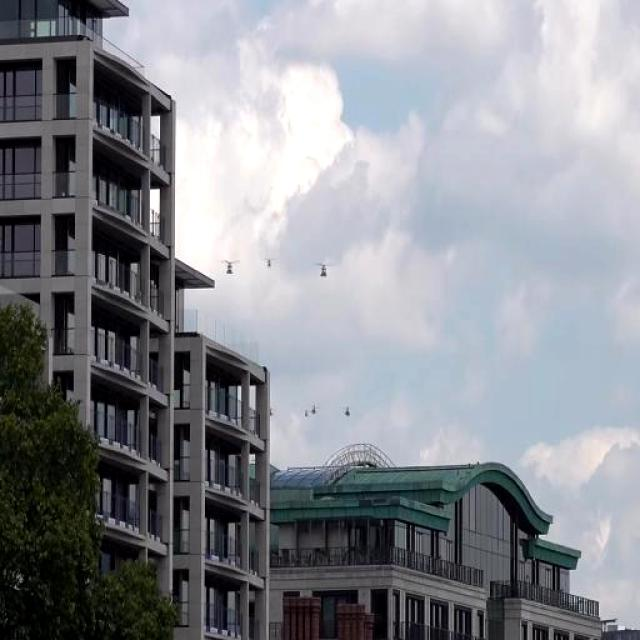drone: (218, 254, 241, 279), (316, 260, 331, 280), (264, 254, 274, 272), (340, 406, 351, 419), (310, 401, 319, 416)
